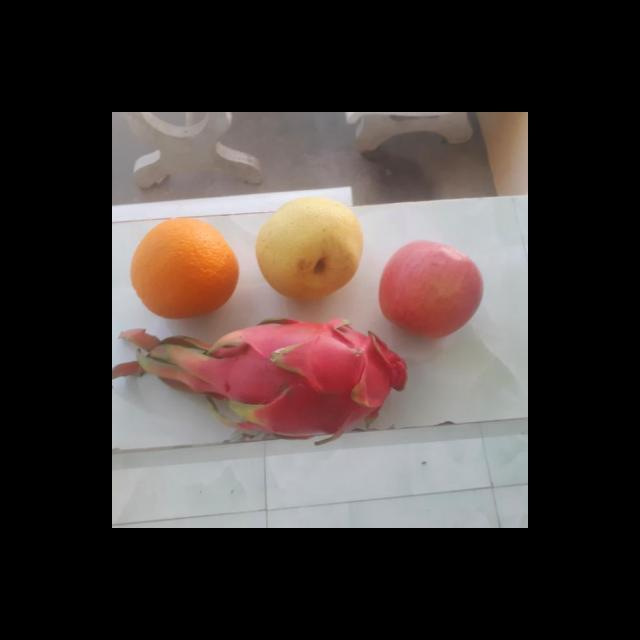apple: (378, 240, 487, 336)
orange: (126, 214, 242, 319)
pear: (252, 199, 370, 301)
pitaya: (199, 313, 423, 428)
